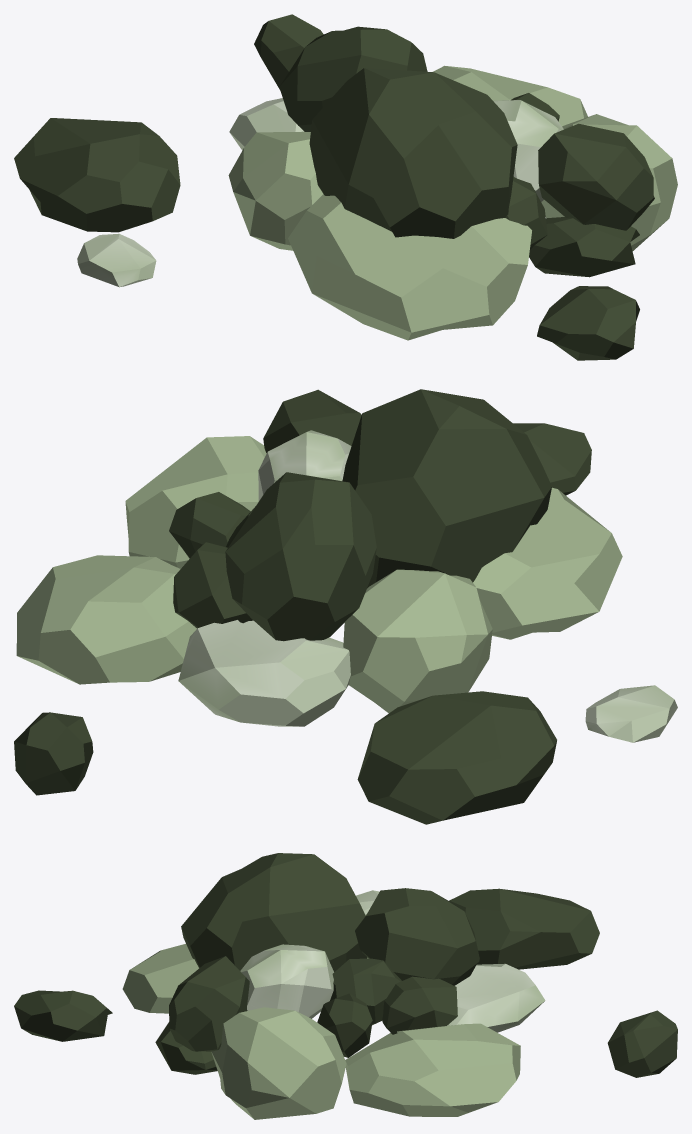
Rendered from EA_Swamp_Stones_Mound_01d.glb.
3 renders of one model, top to bottom at view 1: azimuth 30°, elevation 25°; view 2: azimuth 150°, elevation 25°; view 3: azimuth 270°, elevation 25°, orthographic. The views are drawn at different scales.
Visible parts, largest first — view 1: EA_Swamp_Stones_Mound_01d; view 2: EA_Swamp_Stones_Mound_01d; view 3: EA_Swamp_Stones_Mound_01d.
Boxes of the visible parts, <box> form: EA_Swamp_Stones_Mound_01d: <box>14,14,677,360</box>; EA_Swamp_Stones_Mound_01d: <box>14,389,677,824</box>; EA_Swamp_Stones_Mound_01d: <box>14,853,677,1119</box>.
Size of the model in its own units: 2.67 by 1.05 by 3.55.
Materials: 1 (1 with a texture image).
